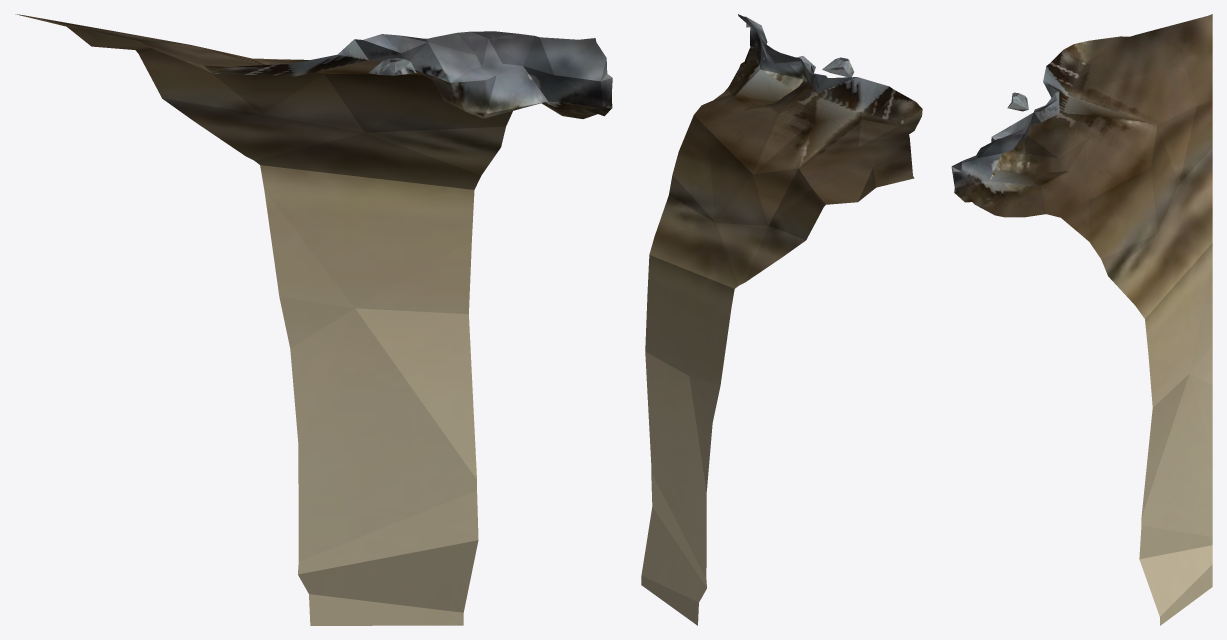
3 renders of one model, left to right at view 1: azimuth 30°, elevation 25°; view 2: azimuth 150°, elevation 25°; view 3: azimuth 270°, elevation 25°, orthographic. The views are drawn at different scales.
Bounding box in the file's own units: 0.527 × 0.8374 × 0.4187.
Materials: 1 (1 with a texture image).
